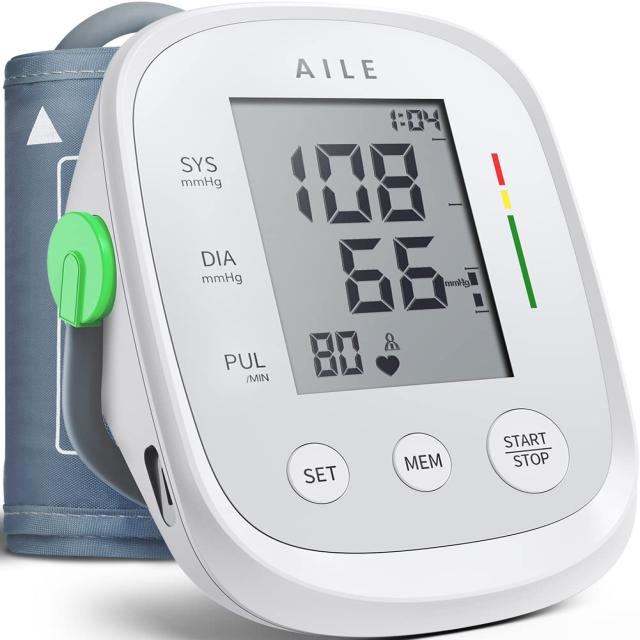dia: (331, 230, 455, 319)
pul: (302, 322, 369, 380)
ssd: (225, 48, 514, 428)
sys: (281, 132, 431, 231)
